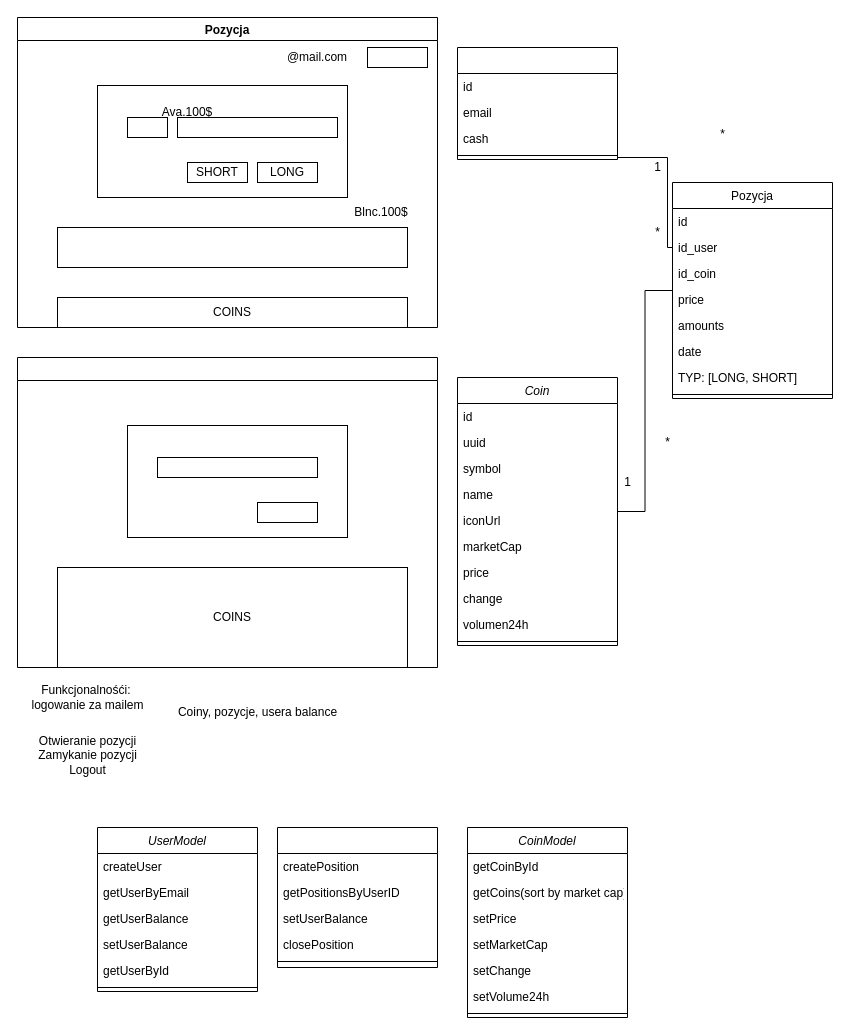
This 850x1035 diagram has some shape labels left out. The box of each missing label's shape, as (x1, y1, x2, y2) in pixels:
Logout: (366, 46, 428, 68)
Logowanie: (16, 356, 438, 668)
PositionModel: (276, 826, 438, 968)
Pozycje: (56, 226, 408, 268)
User: (456, 46, 618, 160)
